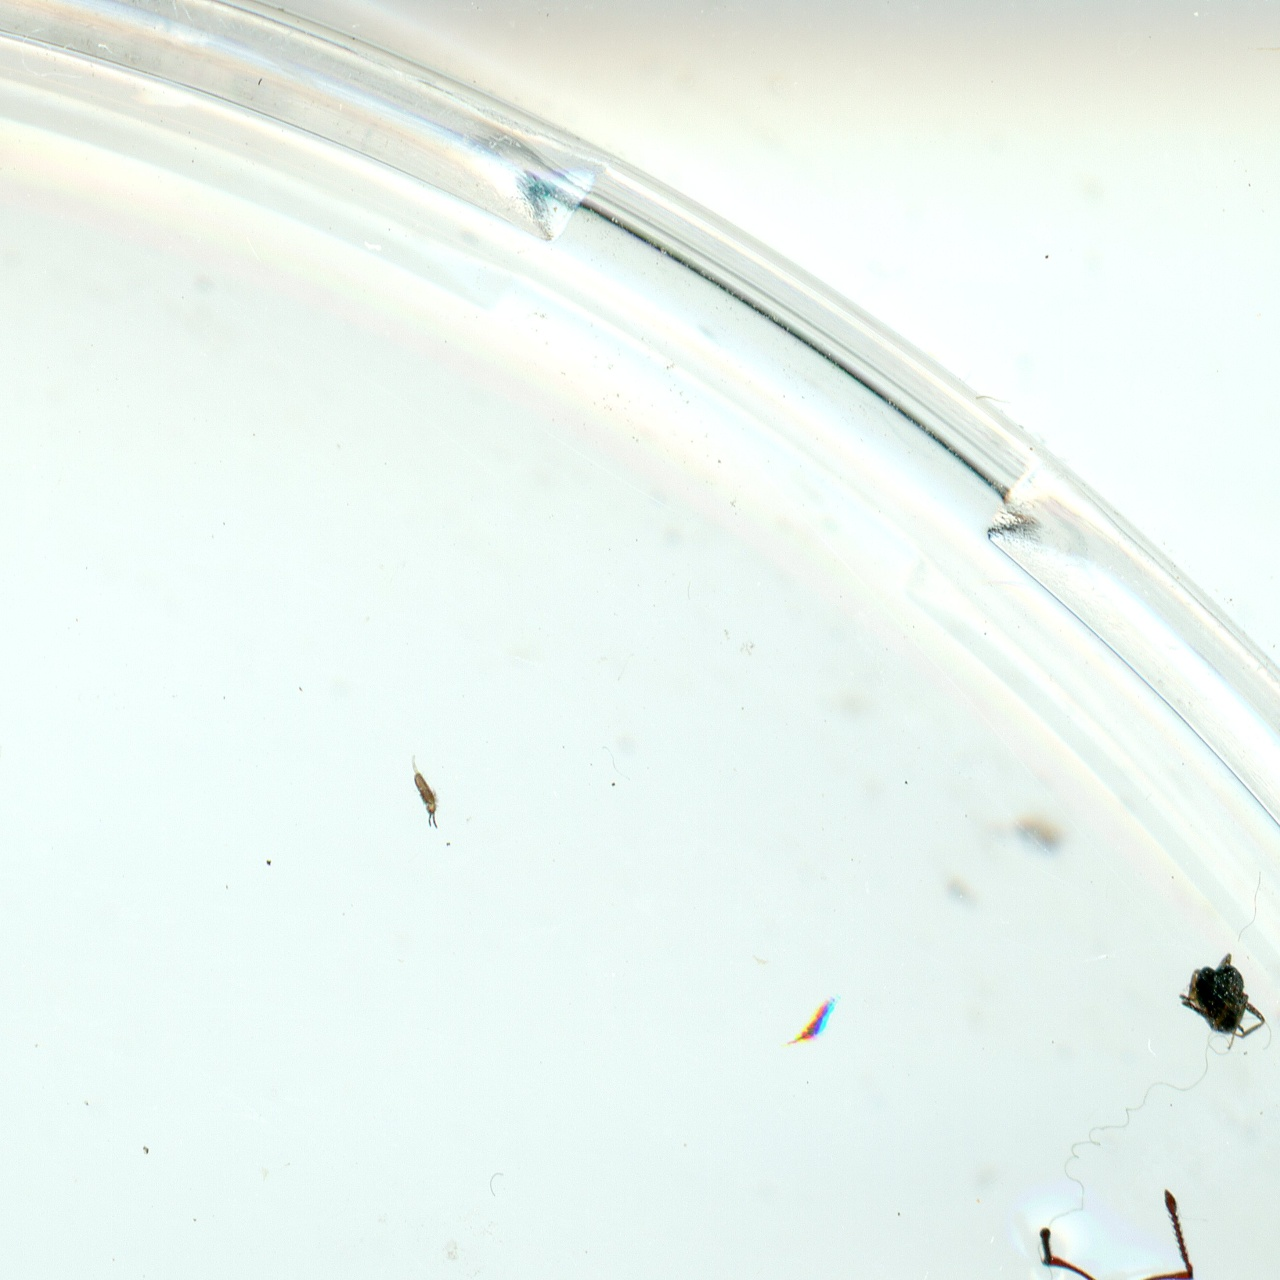arthropod: (1009, 1185, 1218, 1280), (402, 743, 448, 836), (778, 988, 845, 1051)
